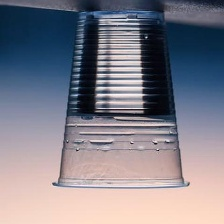glass: (50, 3, 197, 193)
